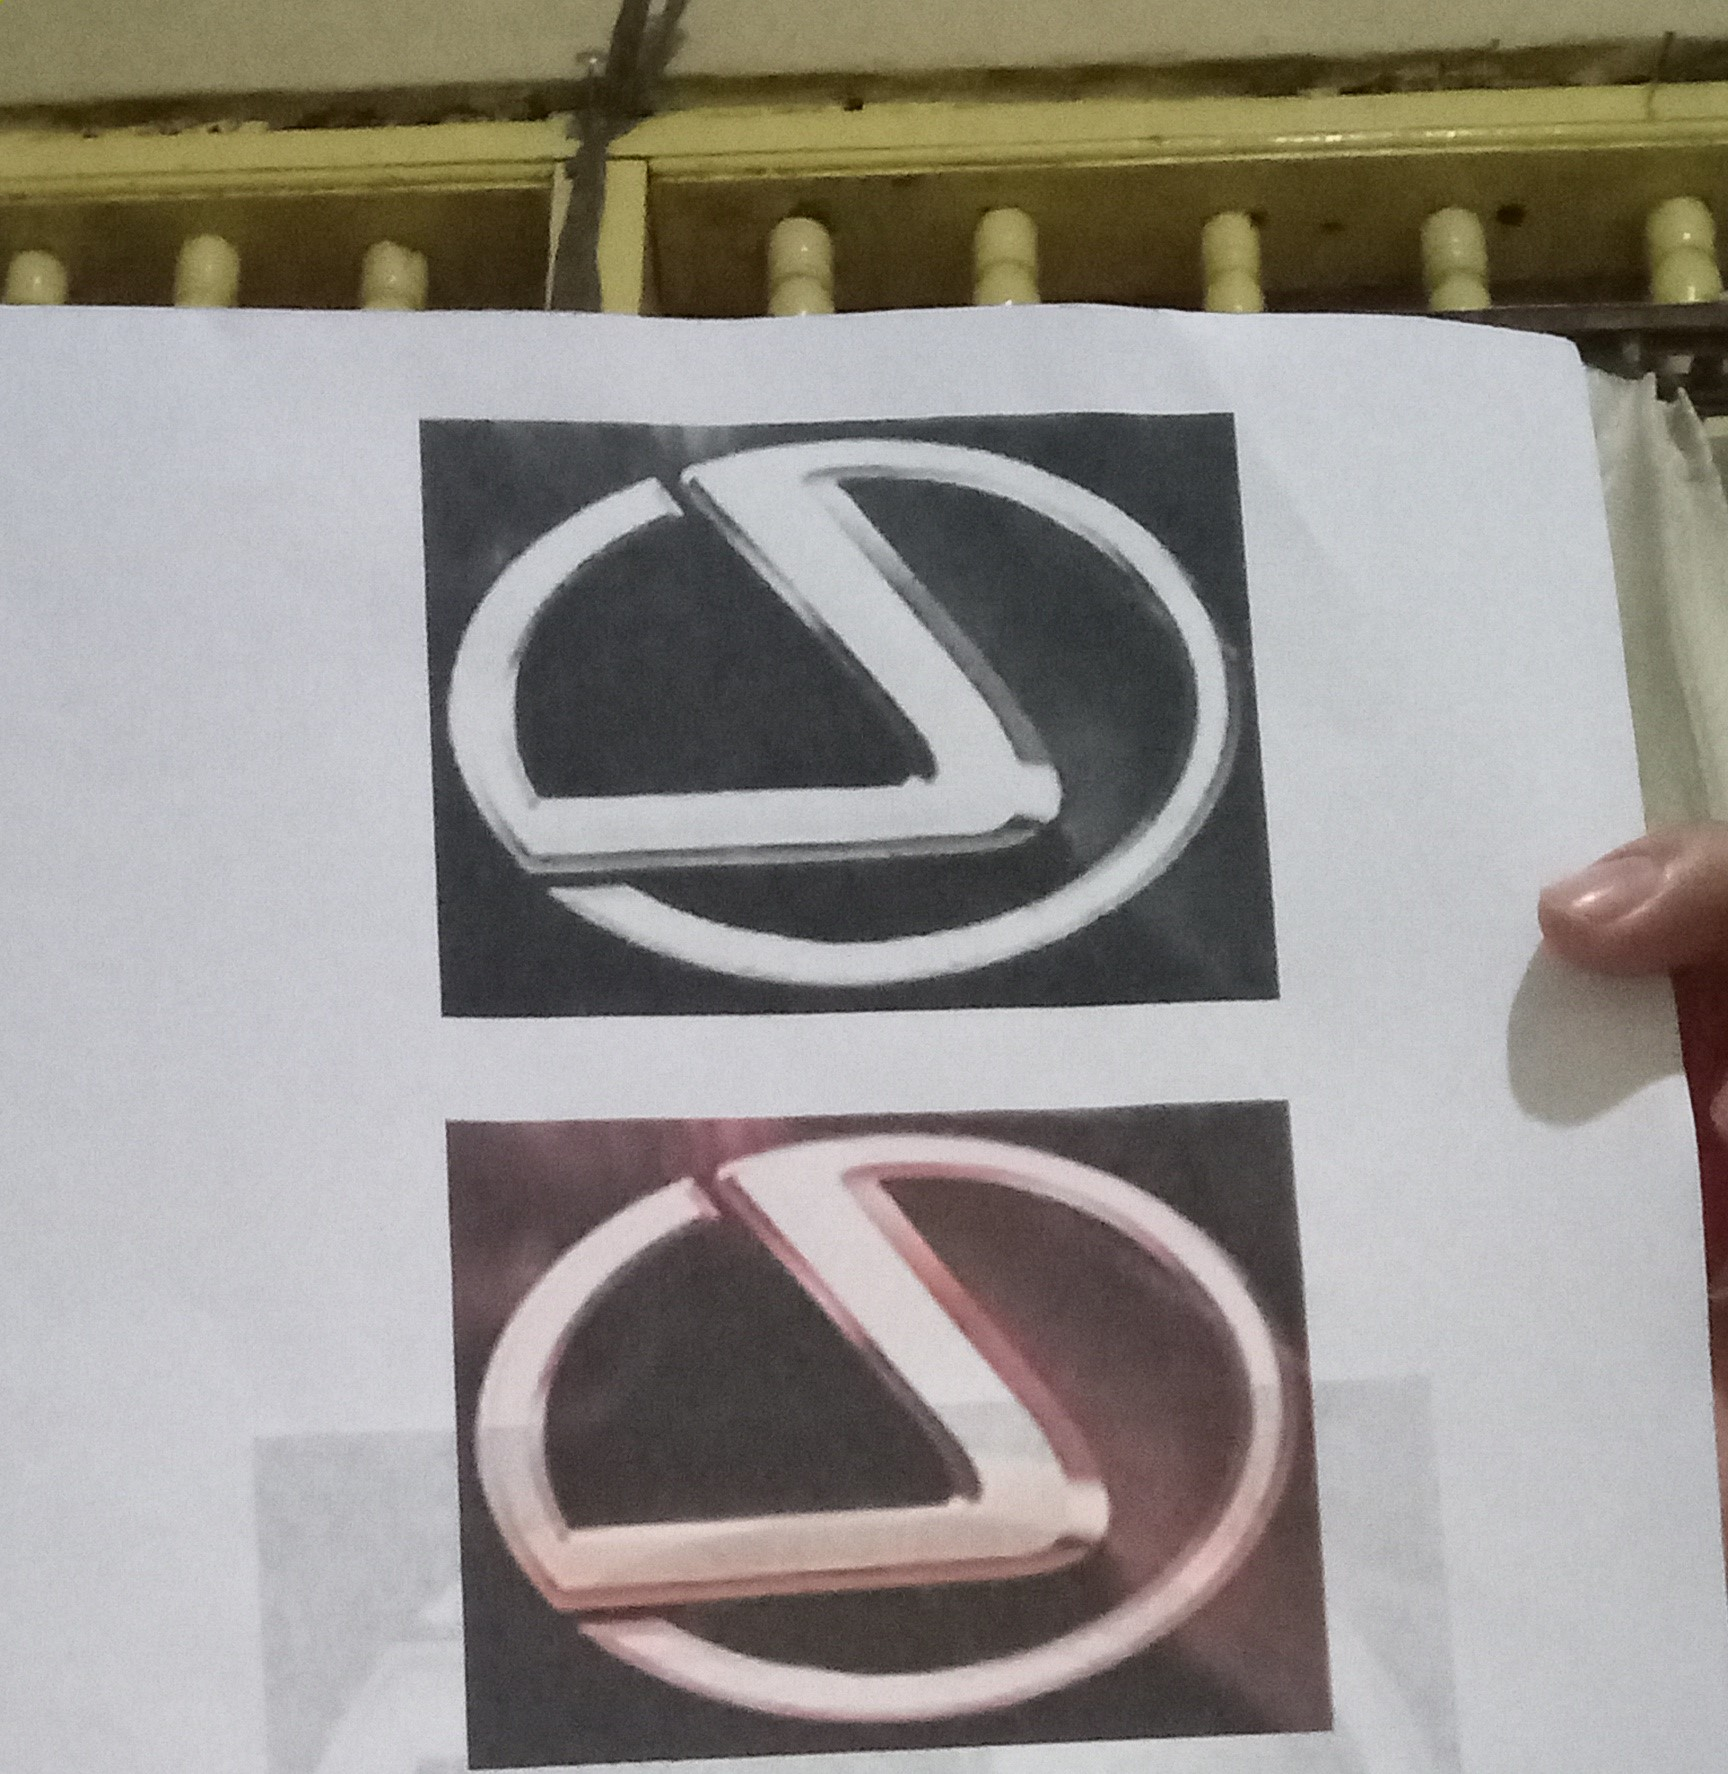Lexus: (453, 1120, 1311, 1745), (421, 423, 1235, 996)
